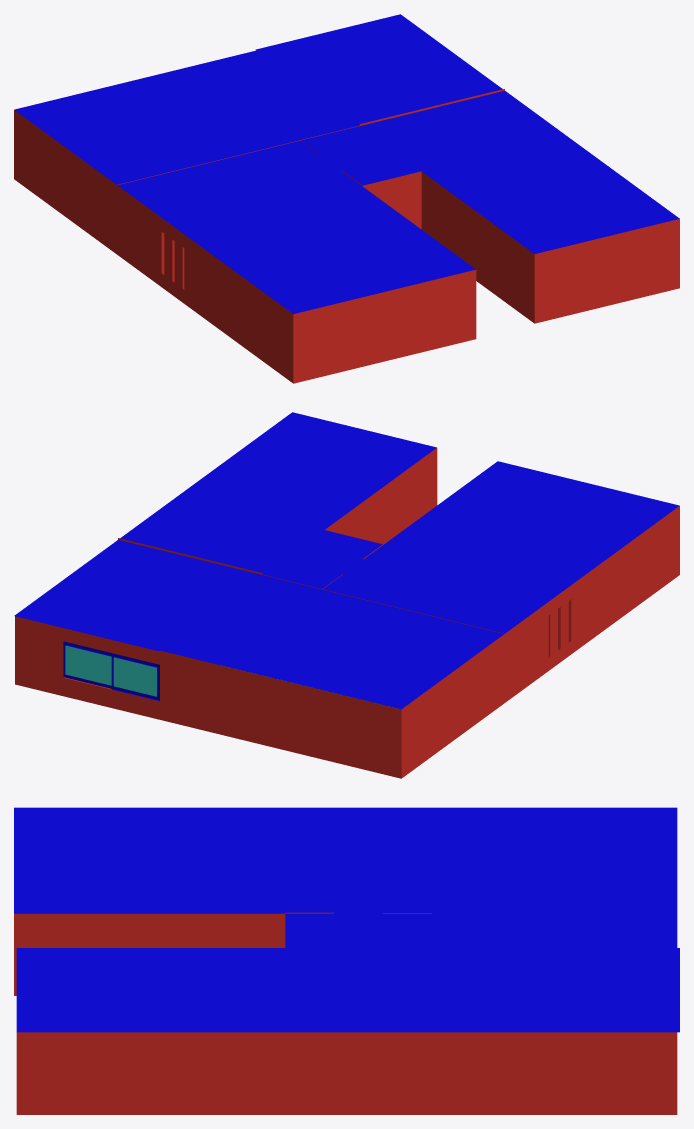
Rendered from Talleres.fbx.
3 views of the same model, one above another, from view 1: azimuth 30°, elevation 25°; view 2: azimuth 150°, elevation 25°; view 3: azimuth 270°, elevation 25° (orthographic). The views are drawn at different scales.
Visible parts, largest first — view 1: Techo, Paredes, Ventana vertical; view 2: Techo, Paredes, Ventana, Ventana vertical; view 3: Techo, Paredes.
Boxes of the visible parts, x1,y1,x2,y2 form: Techo: (14, 14, 679, 313); Paredes: (14, 89, 679, 383); Ventana vertical: (161, 232, 184, 289); Techo: (14, 412, 679, 709); Paredes: (15, 448, 679, 778); Ventana: (63, 641, 159, 701); Ventana vertical: (548, 592, 571, 656); Techo: (14, 807, 679, 1032); Paredes: (14, 912, 677, 1114).
Bounding box in the file's own units: 4033 × 718 × 5055.
